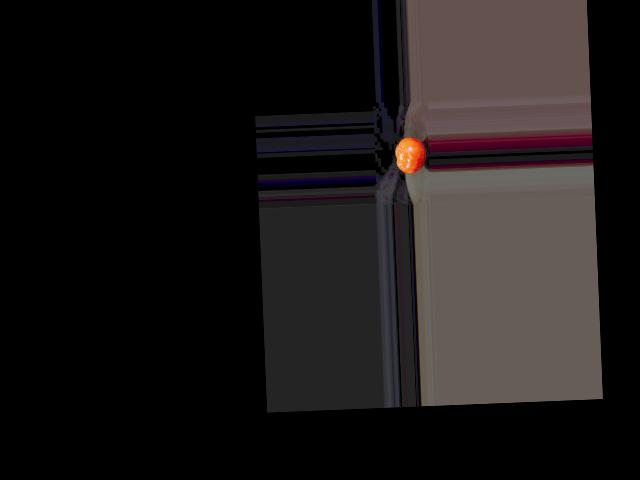tomato: (394, 136, 427, 174)
